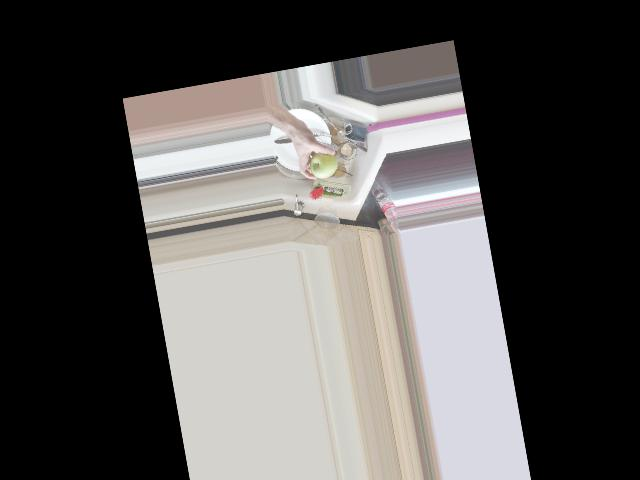apple: (305, 146, 340, 181)
